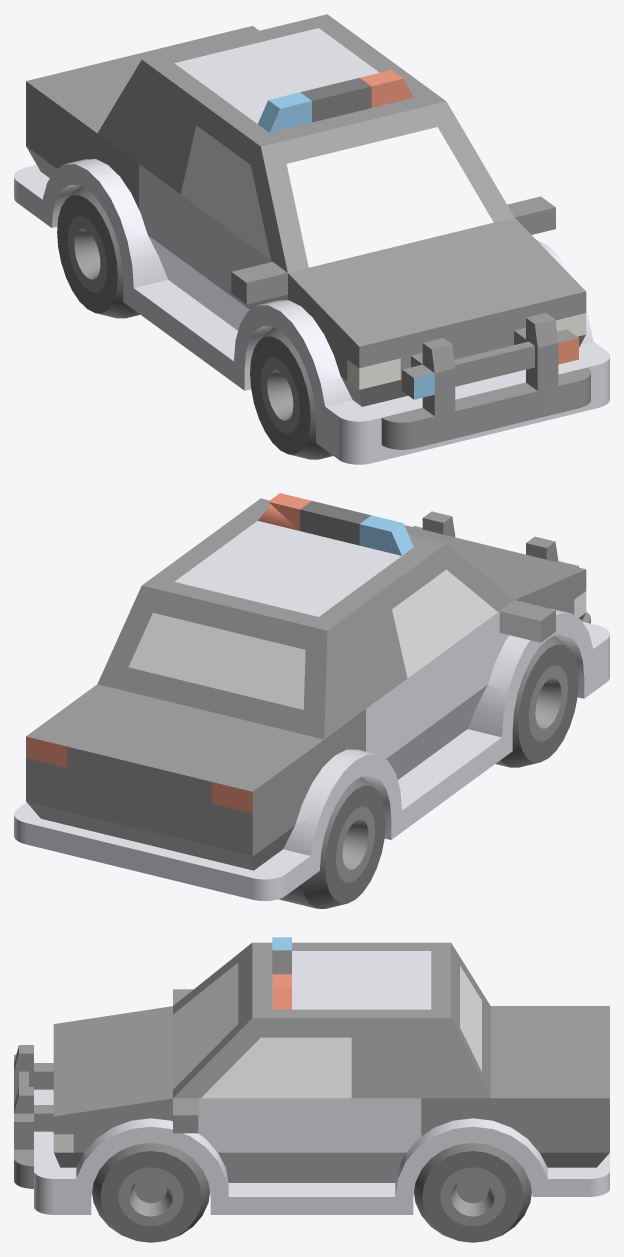
File: police.gltf
3 renders of one model, top to bottom at view 1: azimuth 30°, elevation 25°; view 2: azimuth 150°, elevation 25°; view 3: azimuth 270°, elevation 25°, orthographic. The views are drawn at different scales.
Visible parts, largest first — view 1: body, grill, wheel_backRight, wheel_frontRight, Group; view 2: body, wheel_backRight, wheel_frontRight, Group, grill; view 3: body, wheel_backLeft, wheel_frontLeft, grill, Group.
Part boxes in pixels (bbox=[...]): body: bbox=[14, 14, 609, 464]; grill: bbox=[381, 312, 590, 449]; wheel_backRight: bbox=[57, 186, 140, 318]; wheel_frontRight: bbox=[250, 327, 332, 459]; Group: bbox=[258, 70, 413, 132]; body: bbox=[14, 498, 609, 900]; wheel_backRight: bbox=[279, 777, 385, 908]; wheel_frontRight: bbox=[495, 635, 578, 767]; Group: bbox=[258, 493, 413, 555]; grill: bbox=[413, 511, 590, 623]; body: bbox=[34, 942, 609, 1214]; wheel_backLeft: bbox=[414, 1143, 531, 1242]; wheel_frontLeft: bbox=[92, 1143, 209, 1242]; grill: bbox=[14, 1045, 53, 1188]; Group: bbox=[272, 937, 291, 1009].
Size of the model in its own units: 15 by 13 by 30.
